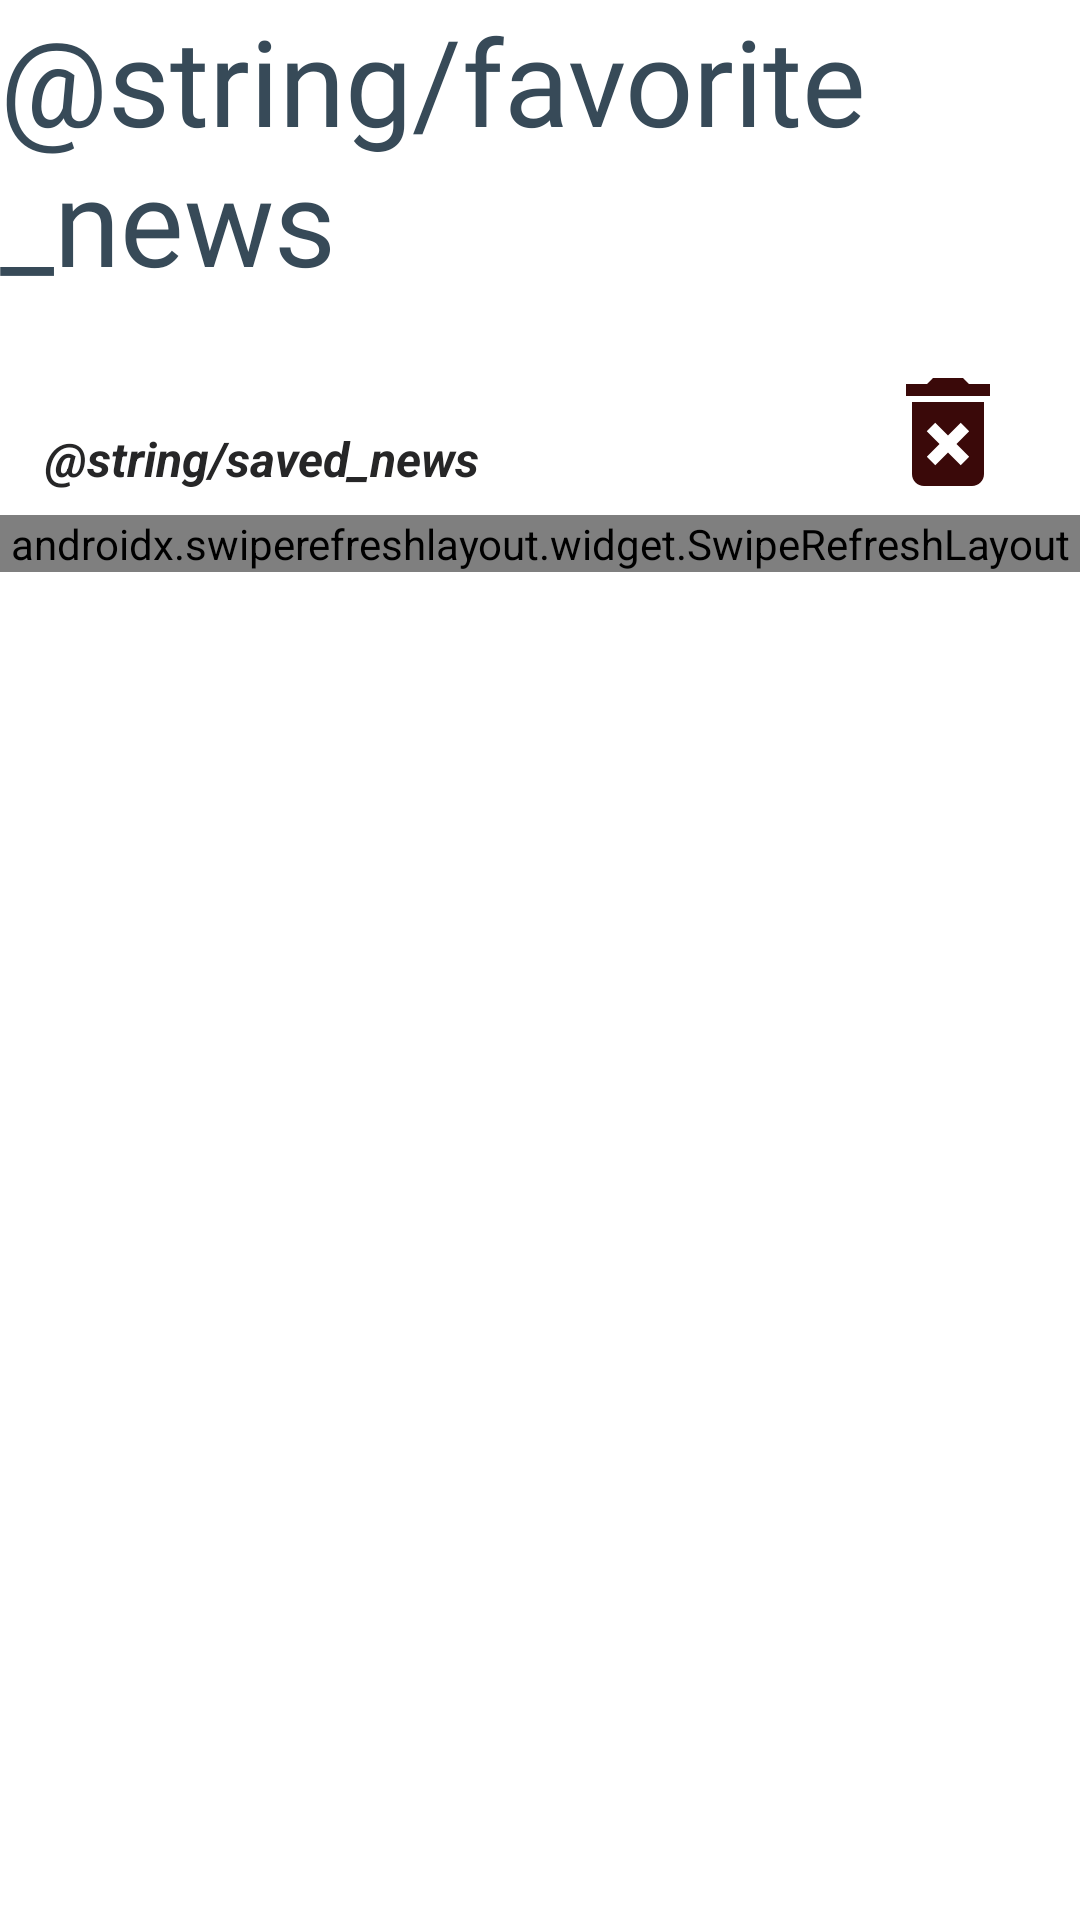

Icons on this 1080 x 1920 Android screen, each with its box as (x1, y1, x2, y2):
delete forever: (906, 378, 990, 486)
